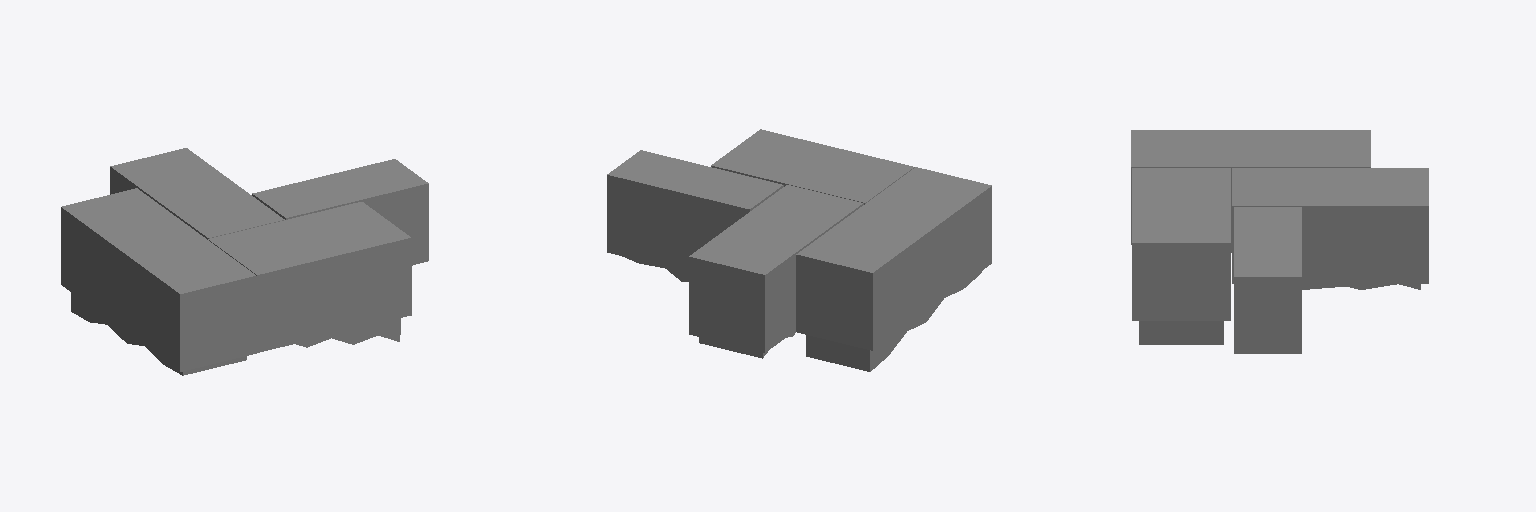
The model's file is chandelier.obj.
3 renders of one model, left to right at view 1: azimuth 30°, elevation 25°; view 2: azimuth 150°, elevation 25°; view 3: azimuth 270°, elevation 25°, orthographic.
Visible parts, largest first — view 1: chandelier_Outside; view 2: chandelier_Outside; view 3: chandelier_Outside.
Part boxes in pixels (left/top/right/bottom): chandelier_Outside: left=61, top=148, right=428, bottom=375; chandelier_Outside: left=607, top=129, right=991, bottom=371; chandelier_Outside: left=1131, top=130, right=1428, bottom=353.
Bounding box in the file's own units: 275 × 92.37 × 236.